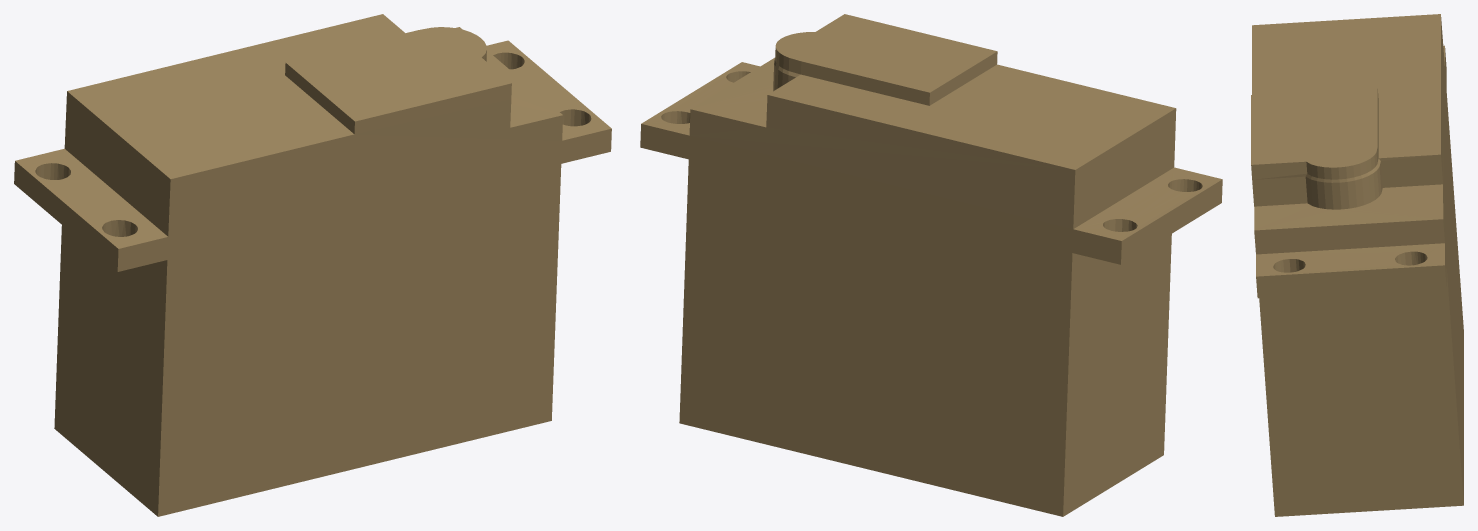
Rendered from right_shoulder_x_link_visual_1.obj.balanced.glb.
The picture shows the model from 3 angles, left to right: view 1: azimuth 30°, elevation 25°; view 2: azimuth 150°, elevation 25°; view 3: azimuth 270°, elevation 25°; orthographic projection. The views are drawn at different scales.
Bounding box in the file's own units: 0.7755 × 0.5533 × 0.3176.
